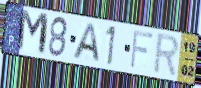1: (105, 25, 118, 67)
8: (47, 15, 68, 59)
A: (70, 22, 102, 65)
F: (129, 29, 155, 71)
M: (16, 8, 51, 58)
R: (151, 32, 181, 80)
